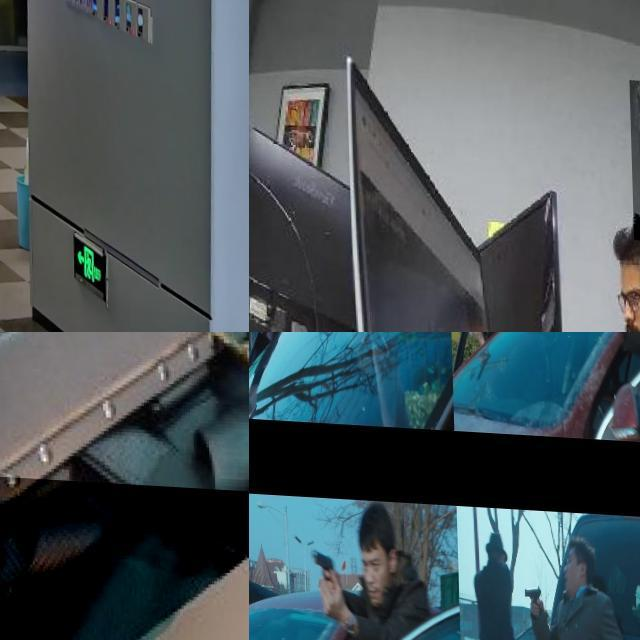-: (0, 474, 249, 640), (628, 74, 640, 236)
gun-knife-thesis - v11 Yolov5 augmented: (306, 539, 334, 602), (249, 332, 280, 365), (578, 332, 609, 362), (518, 575, 540, 612), (448, 332, 475, 351), (249, 588, 262, 626)
